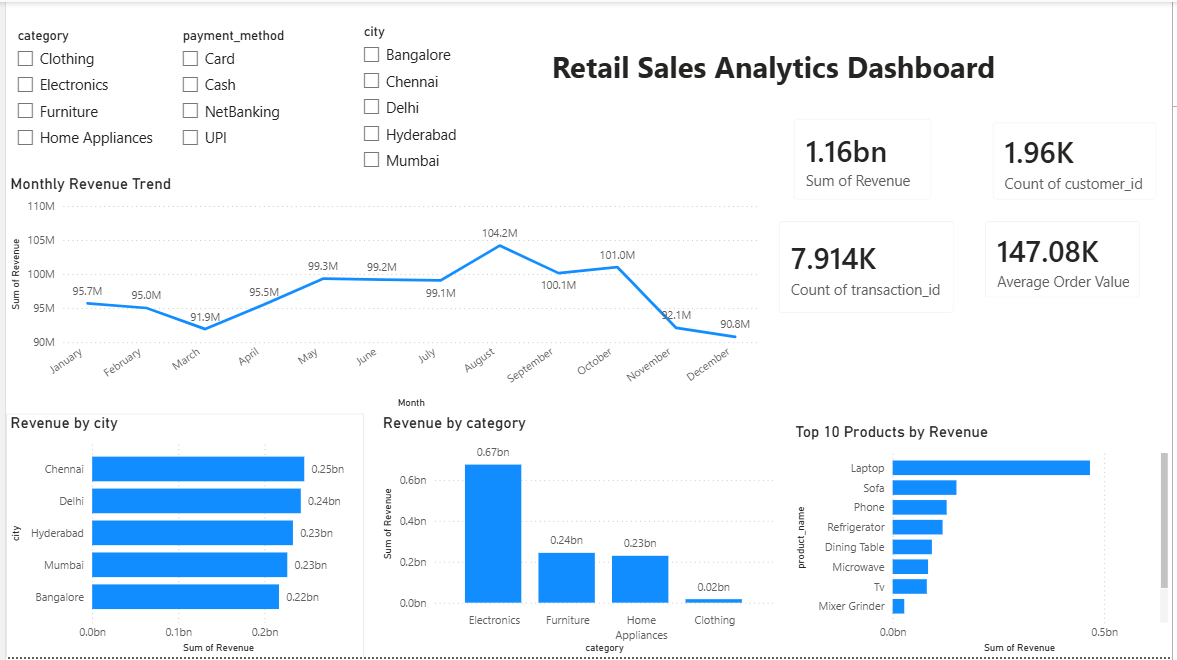

The page's visual inventory and layout, read from the dashboard file:
{"tool":"powerbi","page":{"name":"Page 1","canvas":[1280,720],"ordinal":0},"visuals":[{"type":"cardVisual","fields":{"Data":["Sum(cleaned_retail_data.Revenue)"]},"box":[848,111.1,185.2,123.5],"z":0},{"type":"cardVisual","fields":{"Data":["Count(cleaned_retail_data.transaction_id)"]},"box":[831.6,223.7,226.4,135.8],"z":1000},{"type":"cardVisual","fields":{"Data":["Count(cleaned_retail_data.customer_id)"]},"box":[1066.2,115.3,214.1,119.4],"z":2000},{"type":"cardVisual","fields":{"Data":["cleaned_retail_data.Average Order Value"]},"box":[1058,223.7,204.5,118],"z":2001},{"type":"clusteredColumnChart","title":"Revenue by category","fields":{"Category":["cleaned_retail_data.category"],"Y":["Sum(cleaned_retail_data.Revenue)"]},"box":[408.9,451.5,439.1,269],"z":2002},{"type":"clusteredBarChart","title":"Revenue by city","fields":{"Category":["cleaned_retail_data.city"],"Y":["Sum(cleaned_retail_data.Revenue)"]},"box":[0,451.5,392.5,269],"z":2003},{"type":"lineChart","title":"Monthly Revenue Trend","fields":{"Category":["cleaned_retail_data.Month.Variation.Date Hierarchy.Month"],"Y":["Sum(cleaned_retail_data.Revenue)"]},"box":[0,189.4,831.6,262.1],"z":2004},{"type":"clusteredBarChart","title":"Top 10 Products by Revenue","fields":{"Category":["cleaned_retail_data.product_name"],"Y":["Sum(cleaned_retail_data.Revenue)"]},"box":[861.8,461.1,418.5,259.3],"z":2005},{"type":"textbox","box":[594.2,43.9,506.3,52.1],"z":2006},{"type":"slicer","fields":{"Values":["cleaned_retail_data.category"]},"box":[0,23.3,197.6,149.6],"z":2007},{"type":"slicer","fields":{"Values":["cleaned_retail_data.city"]},"box":[380.1,19.2,149.6,182.5],"z":2008},{"type":"slicer","fields":{"Values":["cleaned_retail_data.payment_method"]},"box":[181.1,23.3,164.7,145.5],"z":2009}]}

Visuals, with their boxes in screenshot pixels (x1, y1, x2, y2), scaled from the page's 1280x720 canvas onto the 1177x660 screenshot:
cardVisual - Sum(cleaned_retail_data.Revenue): Rect(780, 102, 950, 215)
cardVisual - Count(cleaned_retail_data.transaction_id): Rect(765, 205, 973, 330)
cardVisual - Count(cleaned_retail_data.customer_id): Rect(980, 106, 1176, 215)
cardVisual - cleaned_retail_data.Average Order Value: Rect(973, 205, 1161, 313)
"Revenue by category" clusteredColumnChart: Rect(376, 414, 780, 659)
"Revenue by city" clusteredBarChart: Rect(0, 414, 361, 659)
"Monthly Revenue Trend" lineChart: Rect(0, 174, 765, 414)
"Top 10 Products by Revenue" clusteredBarChart: Rect(792, 423, 1176, 659)
textbox: Rect(546, 40, 1012, 88)
slicer - cleaned_retail_data.category: Rect(0, 21, 182, 158)
slicer - cleaned_retail_data.city: Rect(350, 18, 487, 185)
slicer - cleaned_retail_data.payment_method: Rect(167, 21, 318, 155)
